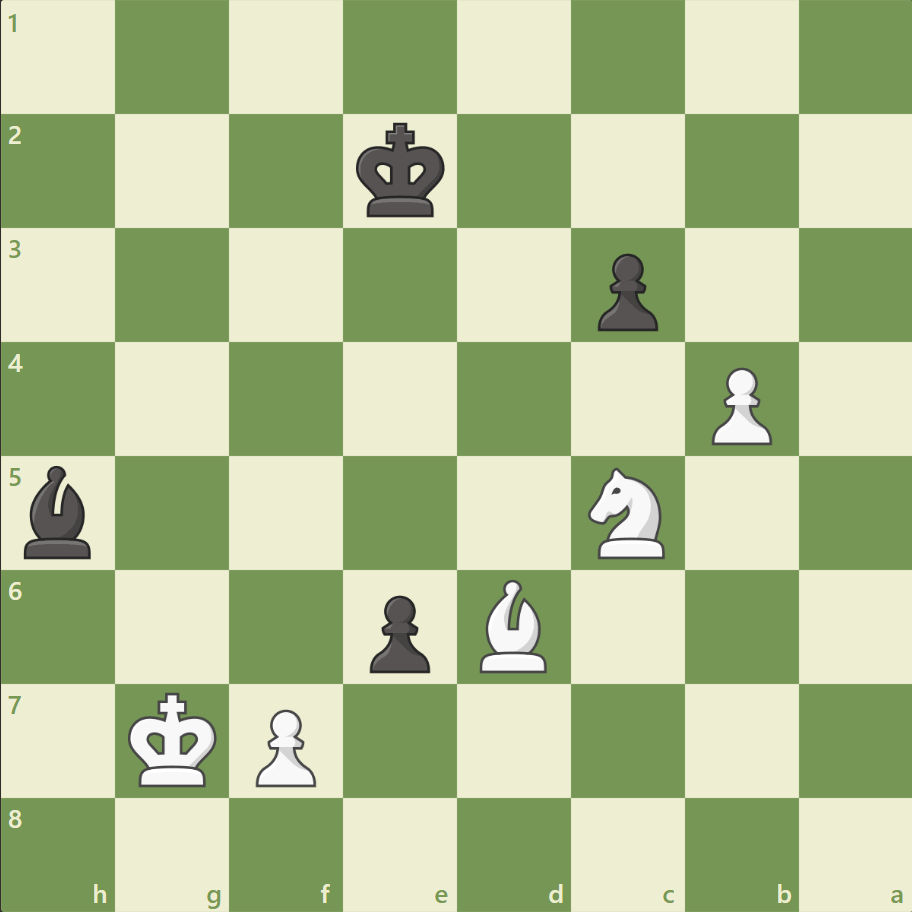B: (471, 574, 555, 676)
K: (124, 685, 224, 793)
N: (579, 461, 676, 564)
P: (247, 700, 322, 791), (701, 359, 776, 450)
b: (17, 460, 101, 563)
k: (351, 117, 451, 225)
p: (361, 586, 435, 677), (588, 246, 662, 337)
